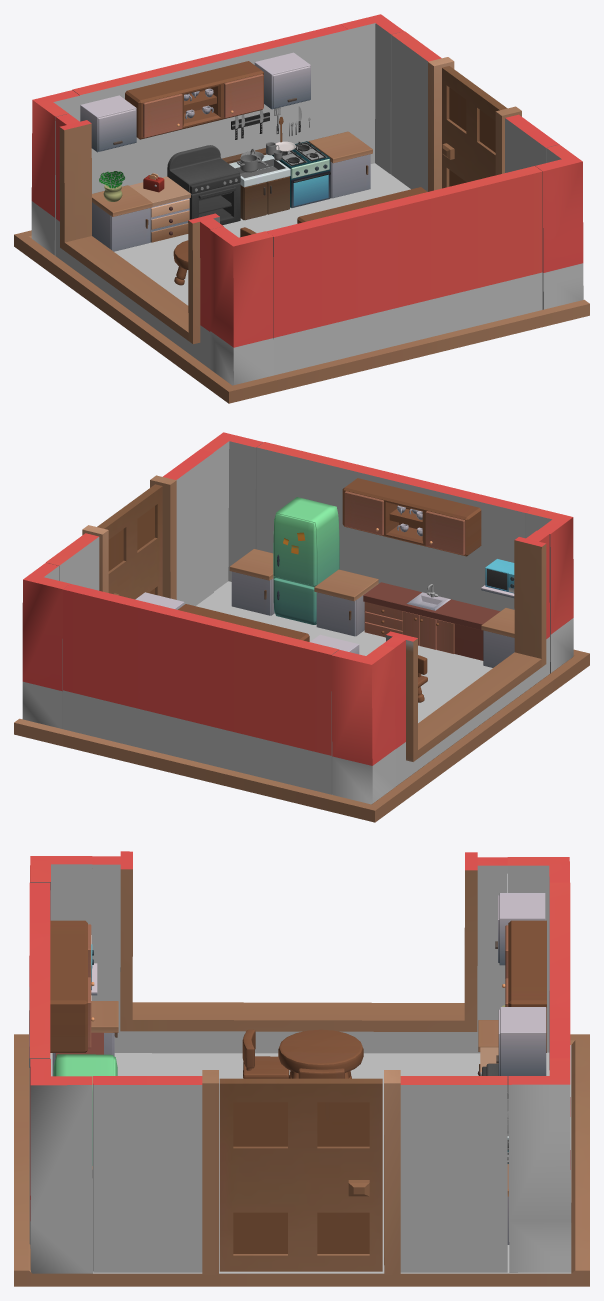
Rendered from CACINA.fbx.
3 views of the same model, one above another, from view 1: azimuth 30°, elevation 25°; view 2: azimuth 150°, elevation 25°; view 3: azimuth 270°, elevation 25° (orthographic). The views are drawn at different scales.
Parts seen in each view (by area): view 1: paret_basica23, muebles_cocina_2, suelo5, paret_basica22, paret_con_ventana_grande21, muebles_cocina_paret1, paret_puerta48, paret_esquina30, paret_esquina_83, paret_esquina_75, puerta15, paret_esquina34 (+5 smaller); view 2: paret_basica22, paret_basica23, suelo5, paret_con_ventana_grande21, mueble_cocina_3, paret_puerta48, paret_esquina34, mueble_paret_3, nevera1, paret_esquina_75, paret_esquina_83, puerta15 (+3 smaller); view 3: paret_puerta48, puerta15, paret_con_ventana_grande21, suelo5, paret_esquina_83, paret_esquina_75, muebles_cocina_paret1, mueble_paret_3, mesa_con_cadiras1, paret_basica23, paret_basica22, paret_esquina30 (+4 smaller).
Boxes of the visible parts, x1,y1,x2,y2 form: paret_basica23: (266, 166, 542, 375); muebles_cocina_2: (92, 131, 372, 251); suelo5: (14, 163, 589, 403); paret_basica22: (72, 24, 348, 193); paret_con_ventana_grande21: (56, 113, 223, 368); muebles_cocina_paret1: (80, 52, 310, 152); paret_puerta48: (391, 31, 559, 191); paret_esquina30: (210, 226, 273, 385); paret_esquina_83: (535, 144, 583, 309); paret_esquina_75: (341, 14, 403, 174); puerta15: (442, 66, 507, 188); paret_esquina34: (31, 90, 79, 255); paret_basica22: (63, 584, 338, 794); paret_basica23: (256, 442, 532, 611); suelo5: (14, 581, 589, 822); paret_con_ventana_grande21: (382, 530, 549, 786); mueble_cocina_3: (229, 549, 514, 667); paret_puerta48: (46, 449, 213, 605); paret_esquina34: (331, 645, 395, 804); mueble_paret_3: (342, 478, 481, 556); nevera1: (273, 497, 339, 624); paret_esquina_75: (22, 563, 70, 728); paret_esquina_83: (200, 432, 263, 591); puerta15: (97, 484, 162, 599); paret_puerta48: (93, 1070, 507, 1274); puerta15: (219, 1078, 382, 1271); paret_con_ventana_grande21: (91, 851, 507, 1053); suelo5: (14, 1034, 589, 1286); paret_esquina_83: (30, 1059, 92, 1273); paret_esquina_75: (508, 1058, 571, 1272); muebles_cocina_paret1: (495, 893, 546, 1079); mueble_paret_3: (50, 920, 94, 1052); mesa_con_cadiras1: (242, 1029, 363, 1078); paret_basica23: (29, 882, 50, 1244); paret_basica22: (549, 882, 570, 1058); paret_esquina30: (29, 856, 92, 1067).
Bounding box in the file's own units: 899 × 360 × 918.
